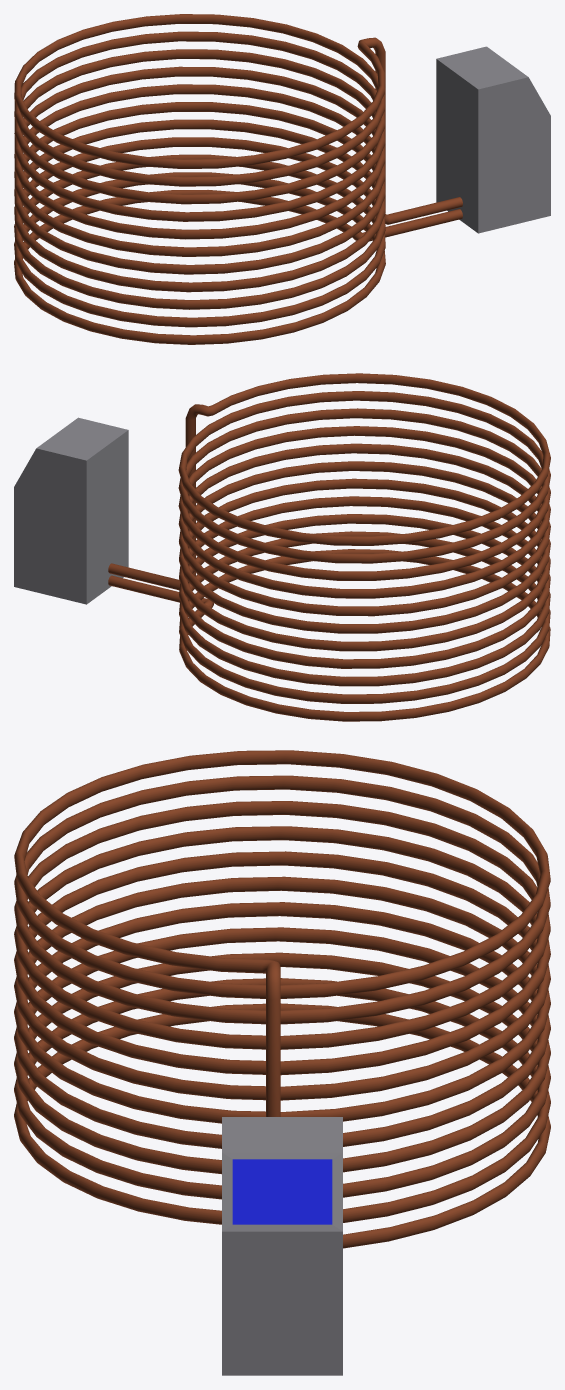
Rendered from induction machine.fbx.
The picture shows the model from 3 angles, top to bottom: view 1: azimuth 30°, elevation 25°; view 2: azimuth 150°, elevation 25°; view 3: azimuth 270°, elevation 25°; orthographic projection. The views are drawn at different scales.
Parts seen in each view (by area): view 1: induction machine; view 2: induction machine; view 3: induction machine.
Part boxes in pixels (left/top/right/bottom): induction machine: left=14, top=14, right=550, bottom=344; induction machine: left=14, top=373, right=550, bottom=721; induction machine: left=14, top=750, right=550, bottom=1375.
Bounding box in the file's own units: 371 × 564 × 224.
